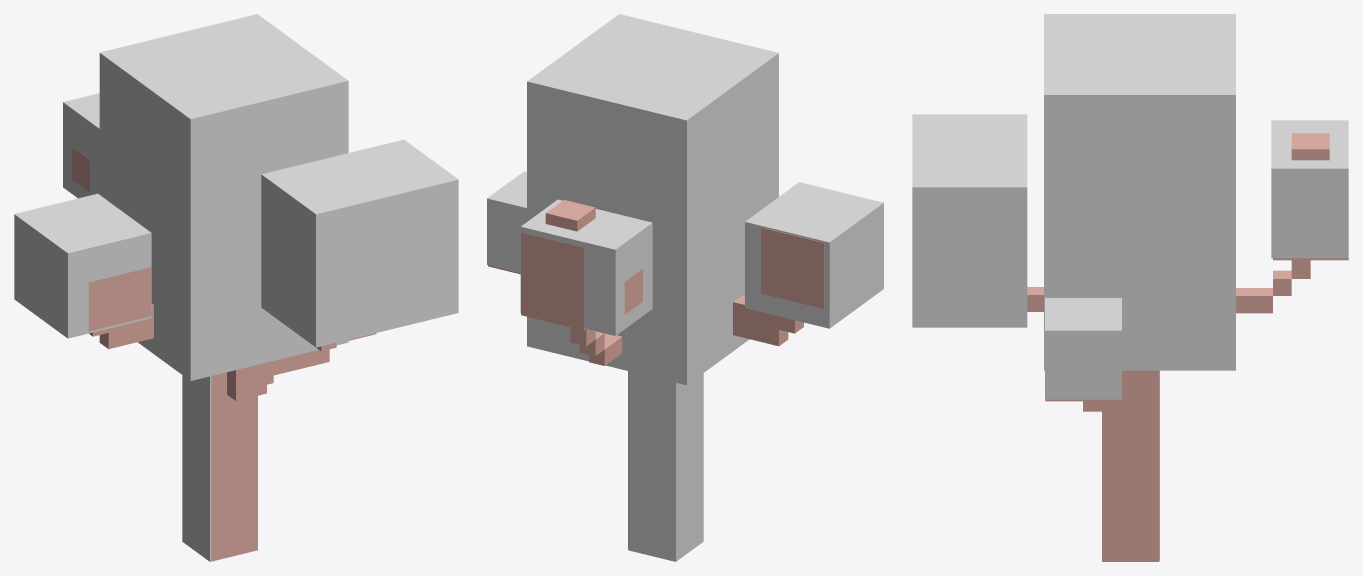
File: Tree05_B1_1_01.FBX
3 views of the same model, side by side, from view 1: azimuth 30°, elevation 25°; view 2: azimuth 150°, elevation 25°; view 3: azimuth 270°, elevation 25° (orthographic). The views are drawn at different scales.
Visible parts, largest first — view 1: Tree05_B1_Damage_1_01, Tree05_B1_Live_1_01; view 2: Tree05_B1_Damage_1_01, Tree05_B1_Live_1_01; view 3: Tree05_B1_Damage_1_01, Tree05_B1_Live_1_01.
Boxes of the visible parts, x1,y1,x2,y2 form: Tree05_B1_Damage_1_01: (14, 14, 458, 561); Tree05_B1_Live_1_01: (72, 147, 376, 561); Tree05_B1_Damage_1_01: (487, 14, 883, 561); Tree05_B1_Live_1_01: (488, 200, 824, 549); Tree05_B1_Damage_1_01: (912, 14, 1348, 561); Tree05_B1_Live_1_01: (1027, 133, 1348, 561).
Bounding box in the file's own units: 5.9 × 7.32 × 5.8.
